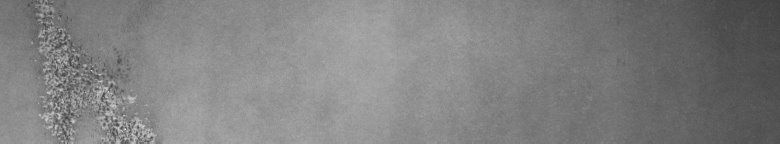hc: (25, 4, 158, 136)
